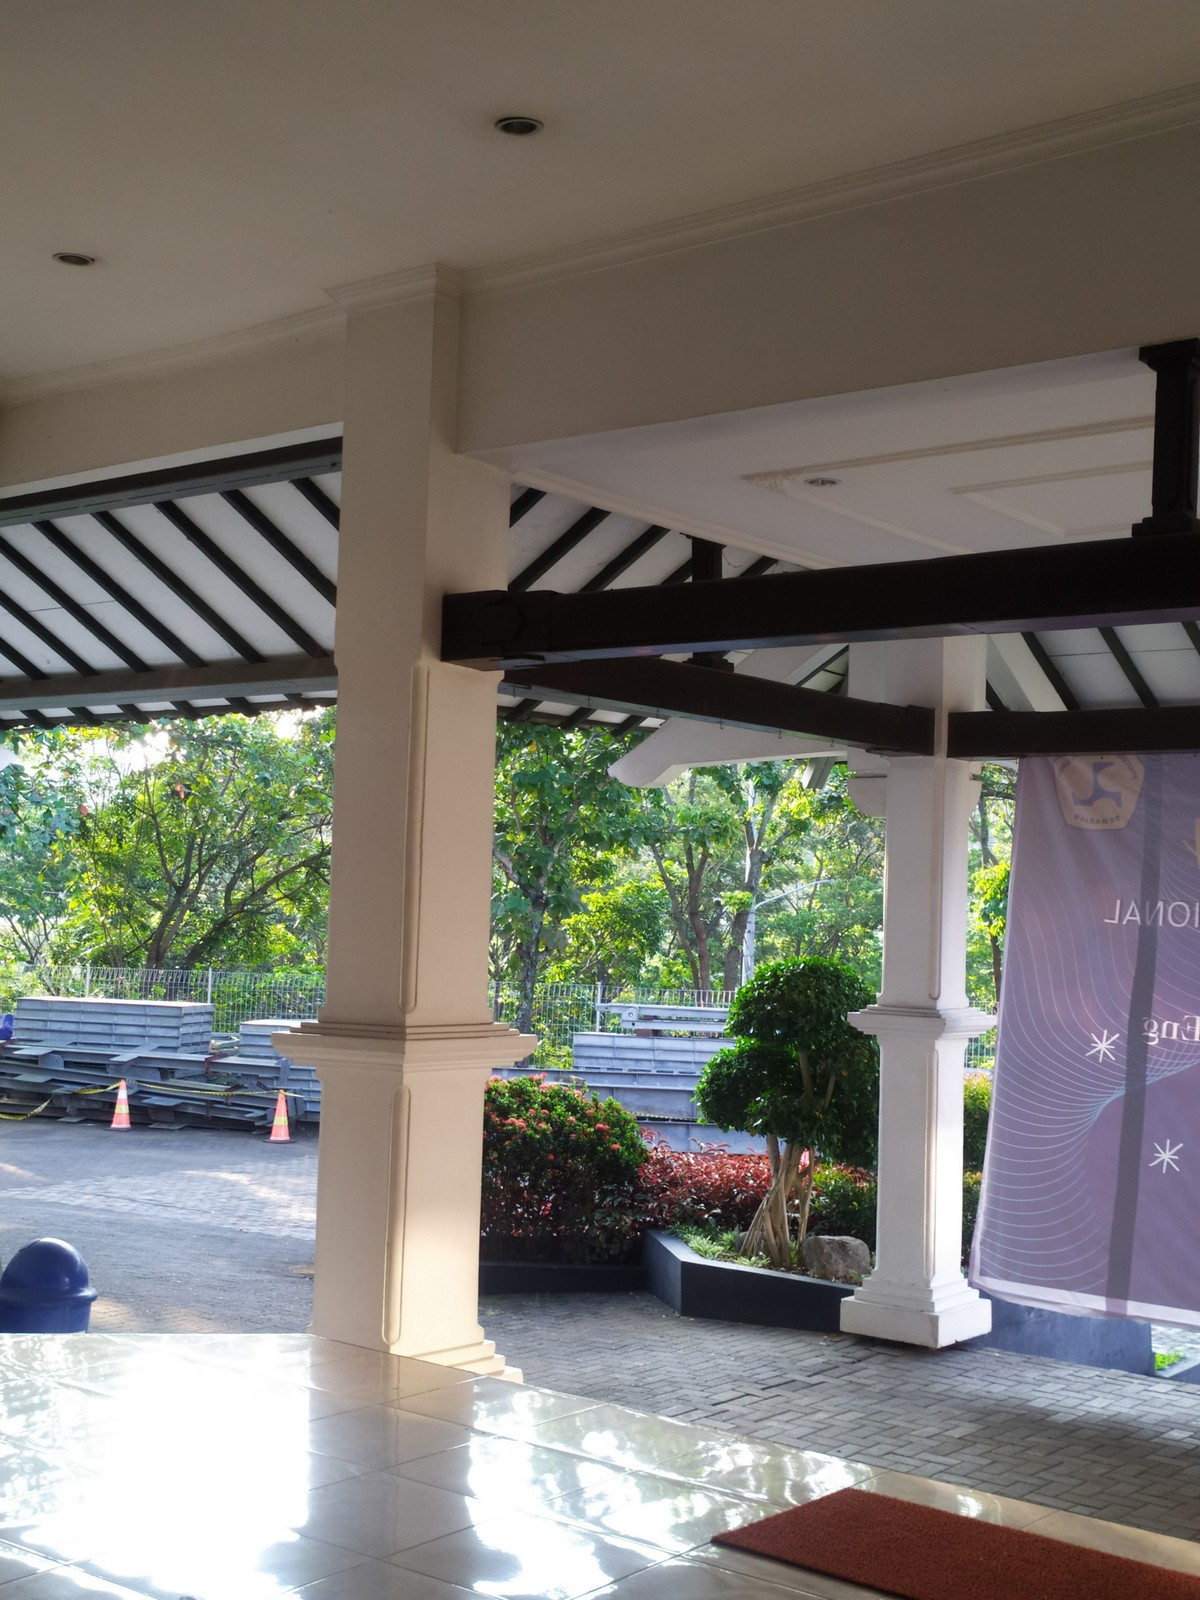concrete column: (303, 339, 495, 1343), (860, 751, 979, 1322)
